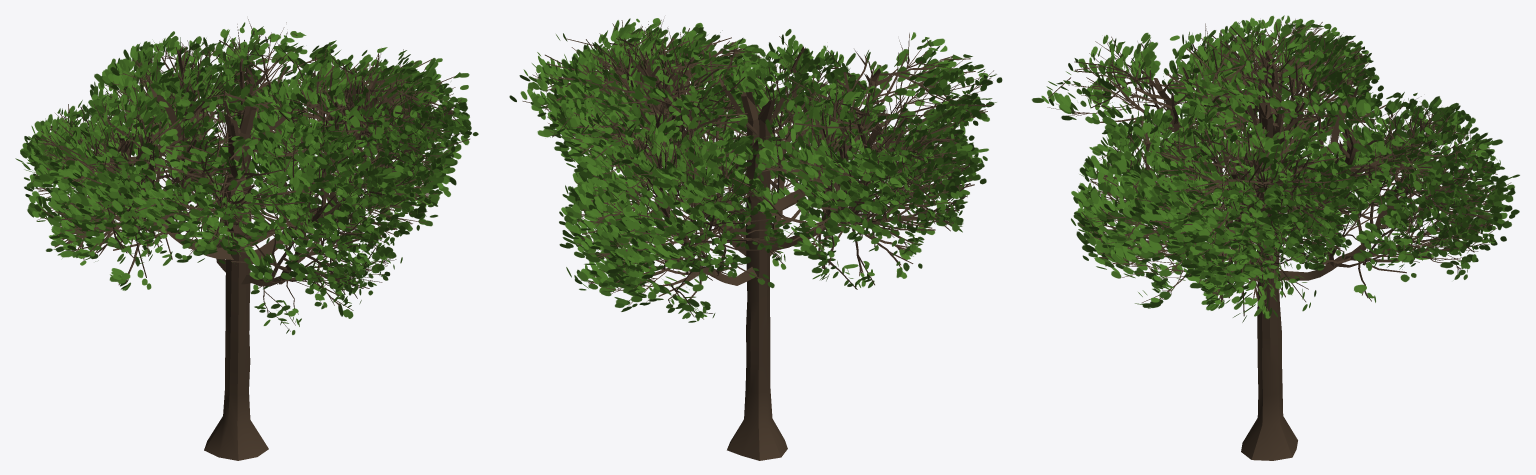
The picture shows the model from 3 angles, left to right: view 1: azimuth 30°, elevation 25°; view 2: azimuth 150°, elevation 25°; view 3: azimuth 270°, elevation 25°; orthographic projection. The views are drawn at different scales.
Parts seen in each view (by area): view 1: oak 01.001_trunk_Mat.001_0.069; view 2: oak 01.001_trunk_Mat.001_0.069; view 3: oak 01.001_trunk_Mat.001_0.069.
Boxes of the visible parts, box(x1,y1,x2,y2) form: oak 01.001_trunk_Mat.001_0.069: box(15, 19, 478, 460); oak 01.001_trunk_Mat.001_0.069: box(509, 18, 1002, 460); oak 01.001_trunk_Mat.001_0.069: box(1032, 15, 1519, 460).
Size of the model in its own units: 5.78 by 4.56 by 5.6.
Materials: 2 (1 with a texture image).
